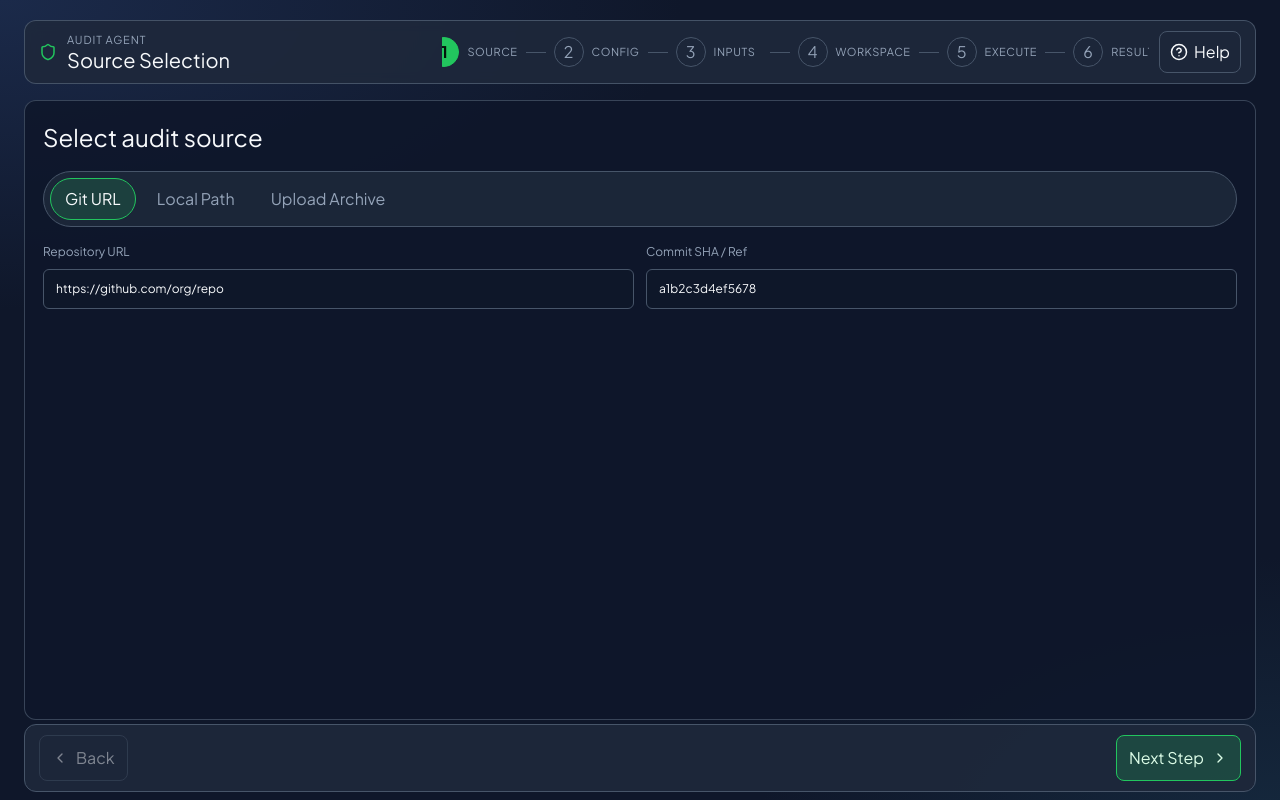
App layout shell › exports audit yaml from workspace confirmation
The image size is (1280, 800).
Click the button named "step 4".
click(813, 52)  # box left=798, top=37, right=828, bottom=67
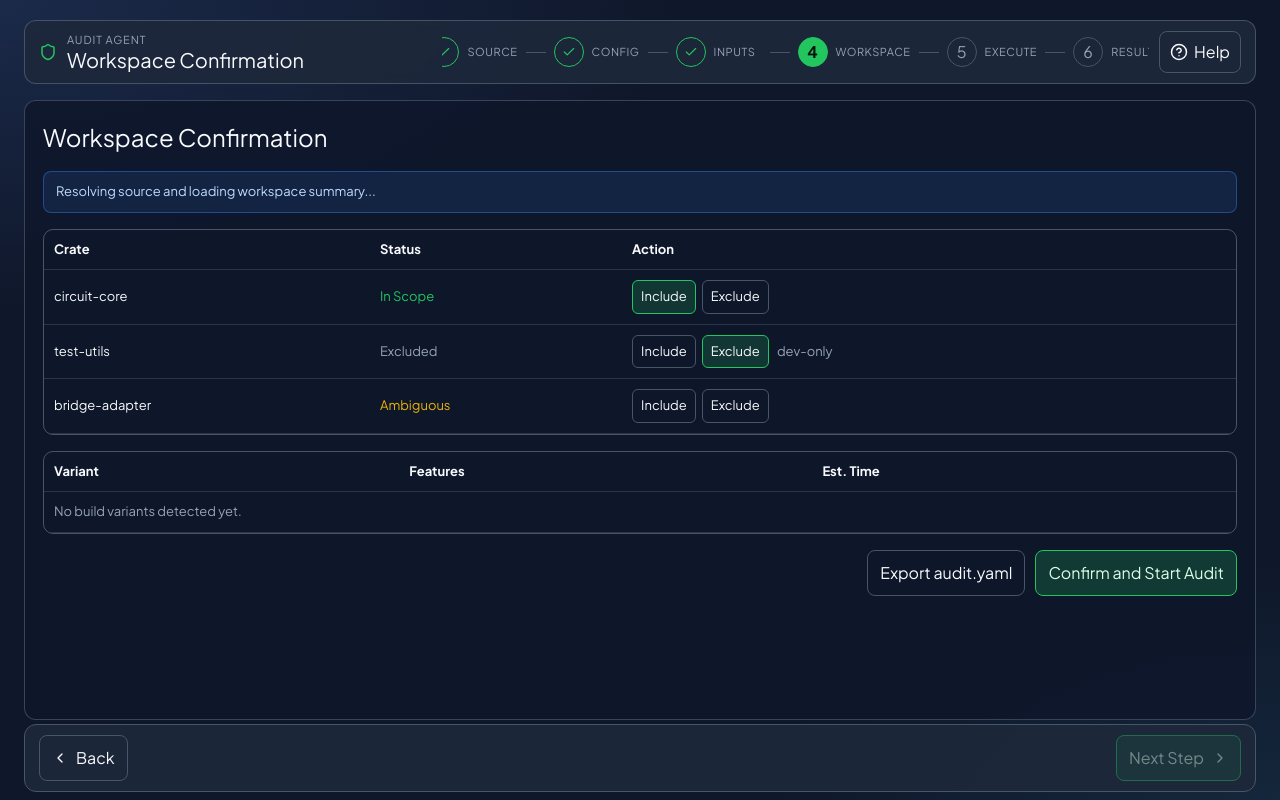
Click the button "Export audit.yaml".
click(946, 572)  # box left=867, top=550, right=1025, bottom=596
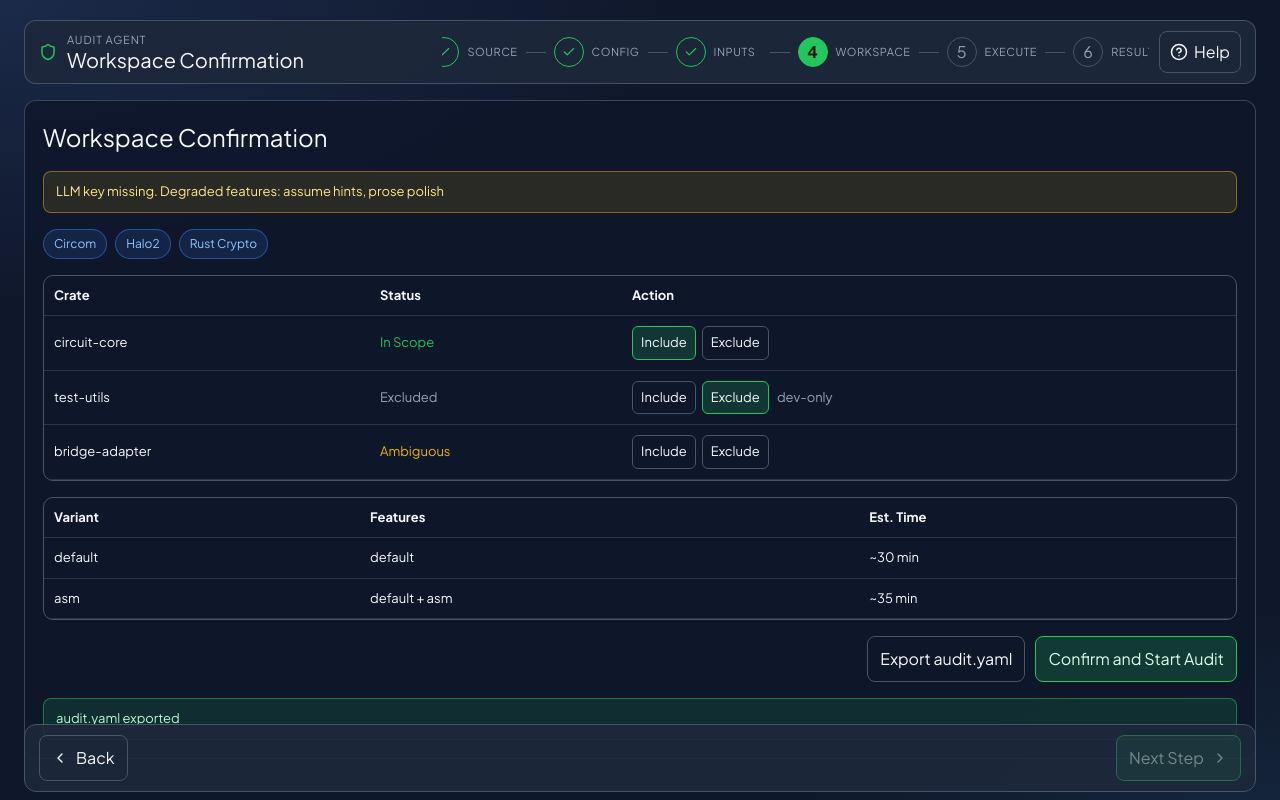
Result: the text "audit.yaml exported" is shown at left=43, top=698, right=1237, bottom=740
